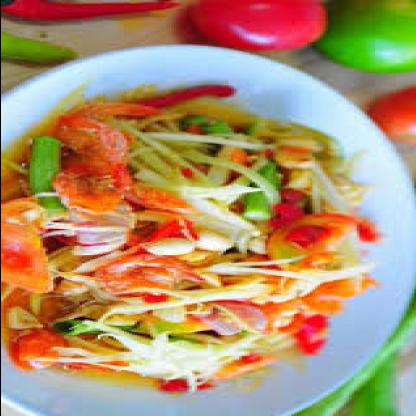Papaya Salad: (2, 83, 374, 410)
